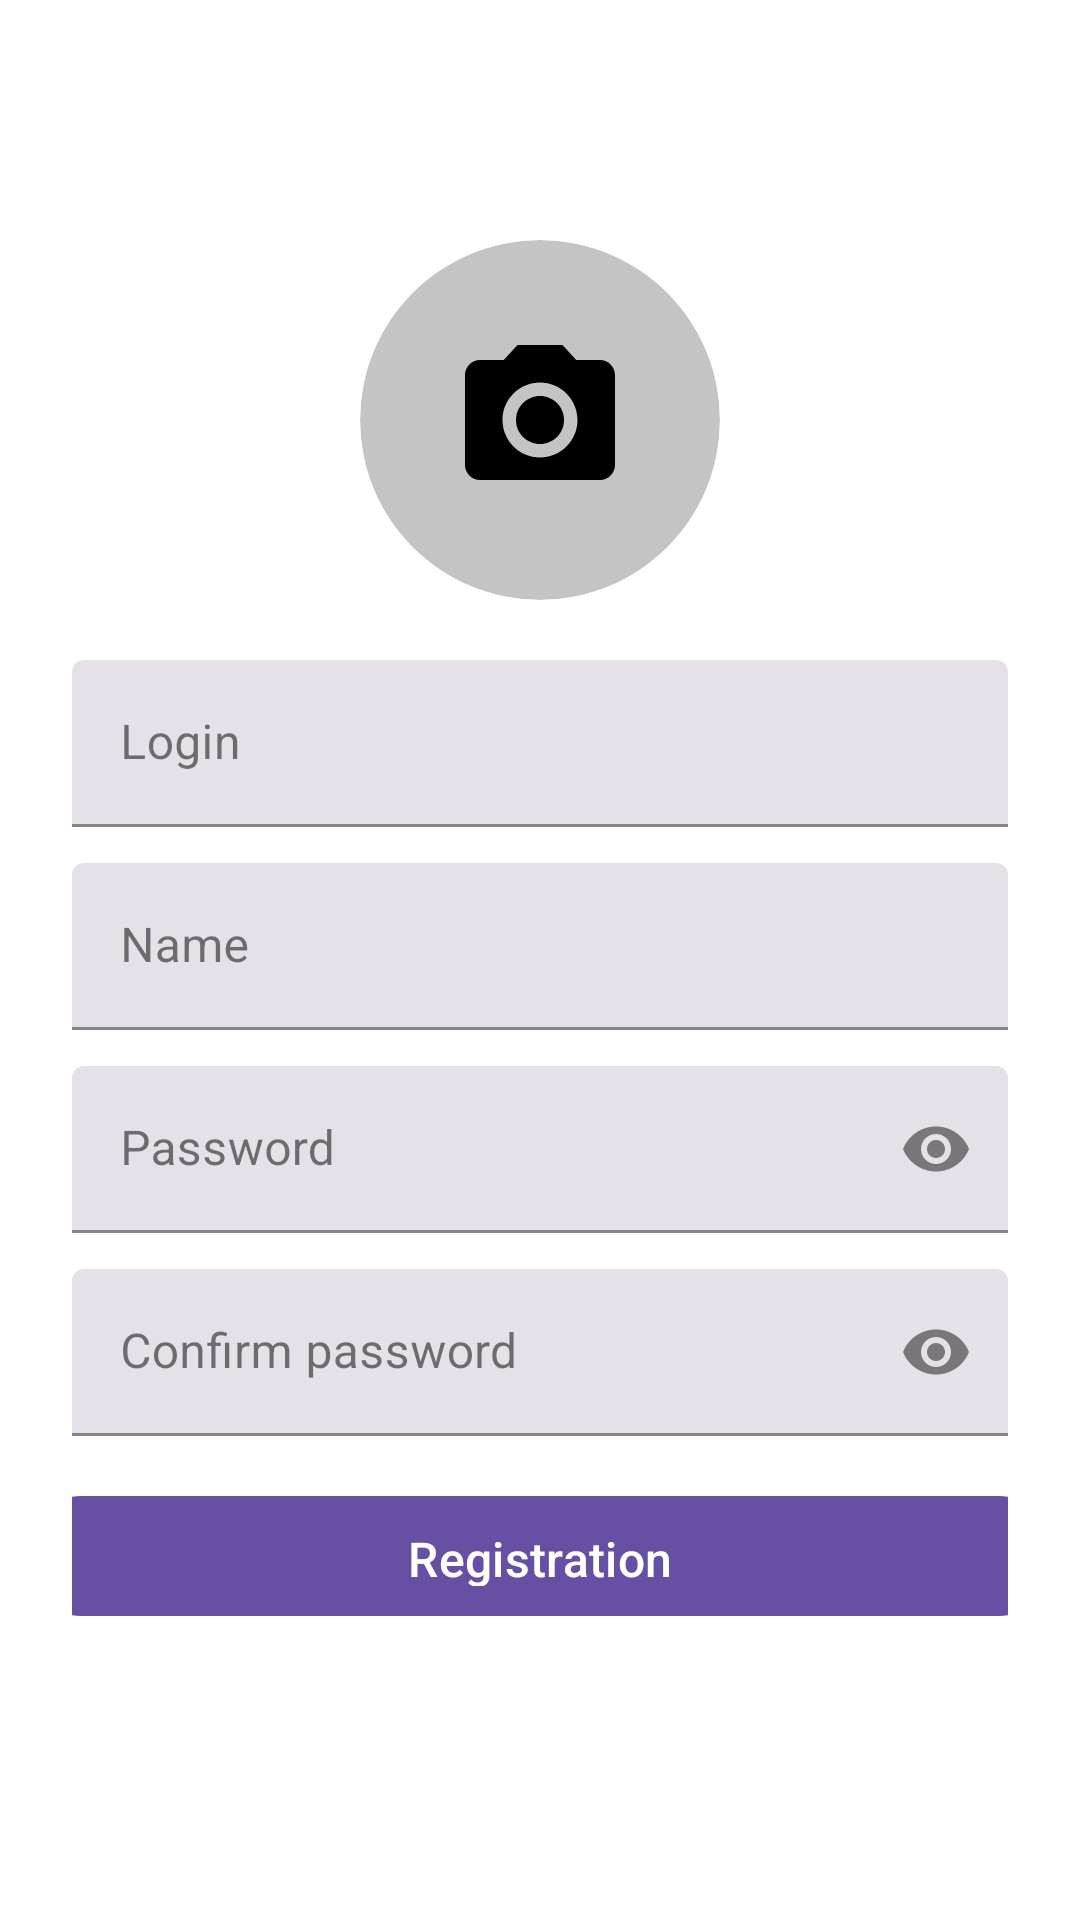

Screen size 1080*1920. Icon name, then its center in pixels as point (x, y):
avatar: point (540, 420)
